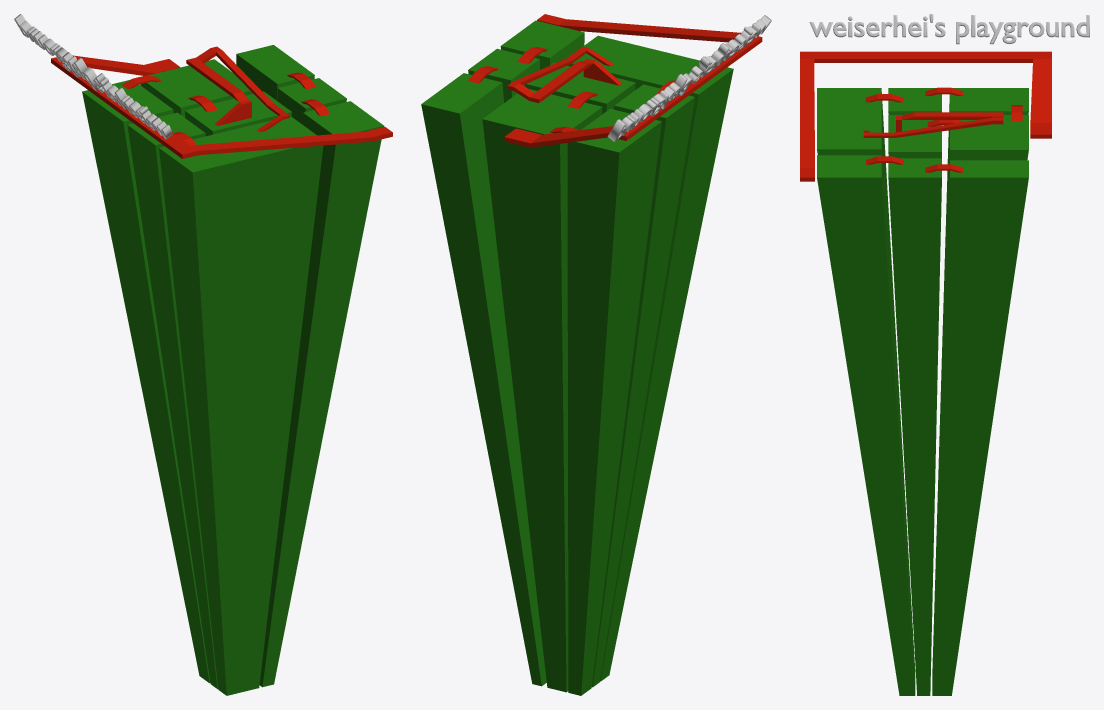
Rendered from rendergeo_playground.obj.
The picture shows the model from 3 angles, left to right: view 1: azimuth 30°, elevation 25°; view 2: azimuth 150°, elevation 25°; view 3: azimuth 270°, elevation 25°; orthographic projection. The views are drawn at different scales.
Parts seen in each view (by area): view 1: ground_Plane, bridge_Cube, font_Text; view 2: ground_Plane, bridge_Cube, font_Text; view 3: ground_Plane, bridge_Cube, font_Text.
Boxes of the visible parts, x1,y1,x2,y2 form: ground_Plane: (82,45,384,695); bridge_Cube: (51,46,392,158); font_Text: (14,14,172,139); ground_Plane: (421,20,733,695); bridge_Cube: (468,14,762,147); font_Text: (607,15,771,141); ground_Plane: (817,88,1028,695); bridge_Cube: (800,51,1051,181); font_Text: (809,14,1089,44).
Size of the model in its own units: 47.65 by 127 by 54.66.
